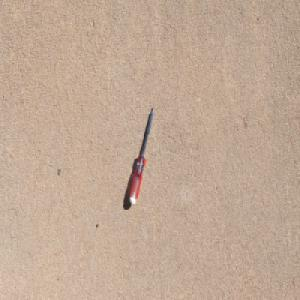Screwdriver: (128, 103, 155, 206)
